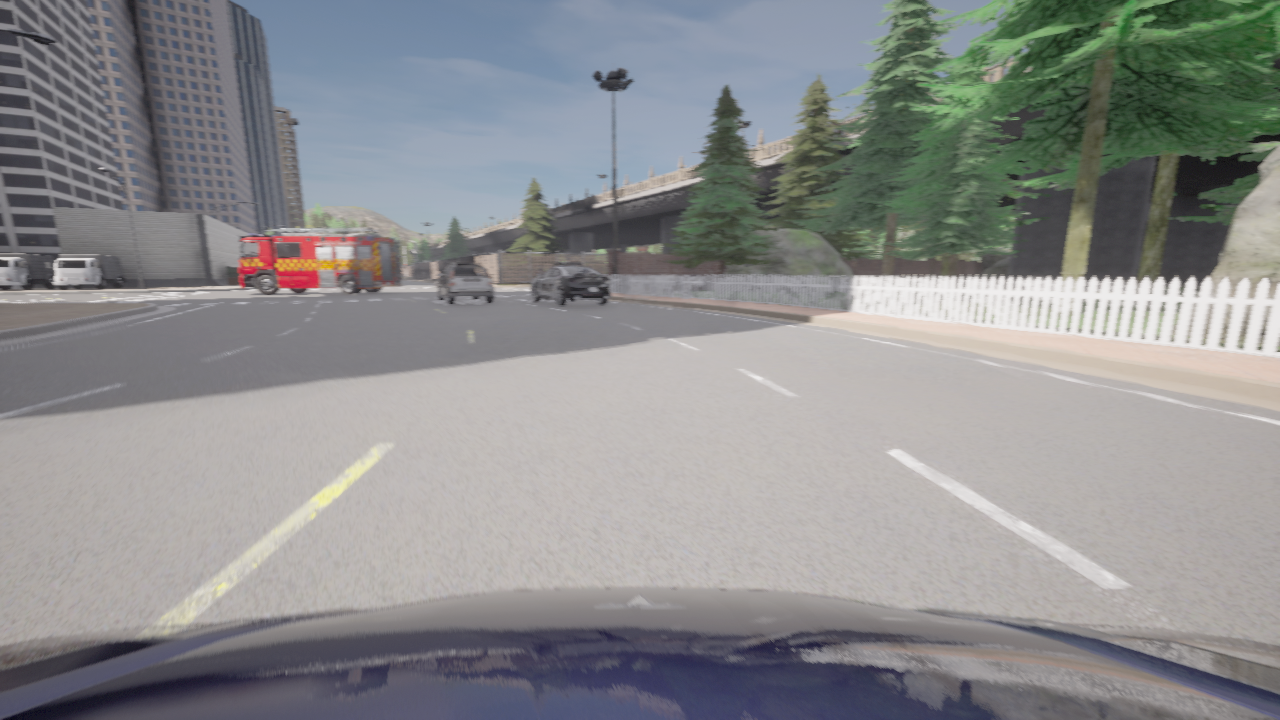cyclist: (0, 588, 1279, 719), (238, 228, 401, 294), (531, 262, 610, 305), (46, 254, 125, 289), (436, 263, 493, 304)
